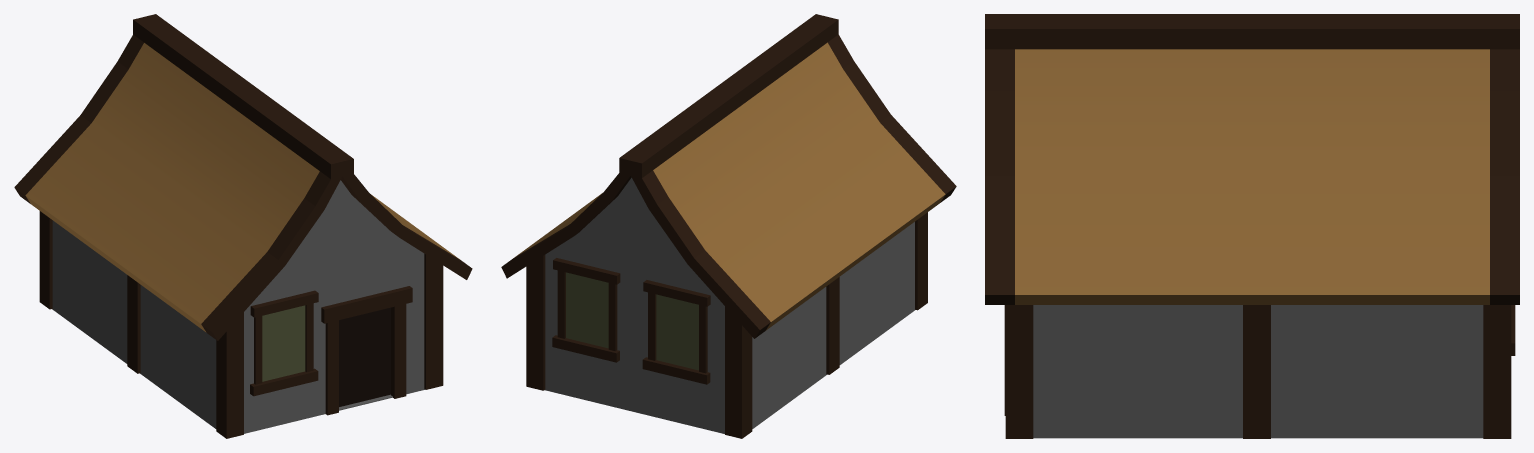
Rendered from domek1.FBX.
3 renders of one model, left to right at view 1: azimuth 30°, elevation 25°; view 2: azimuth 150°, elevation 25°; view 3: azimuth 270°, elevation 25°, orthographic. The views are drawn at different scales.
Parts seen in each view (by area): view 1: house1; view 2: house1; view 3: house1.
Part boxes in pixels (left/top/right/bottom): house1: left=14, top=14, right=472, bottom=438; house1: left=501, top=14, right=956, bottom=438; house1: left=985, top=14, right=1519, bottom=438.
Bounding box in the file's own units: 114 × 108 × 150.
